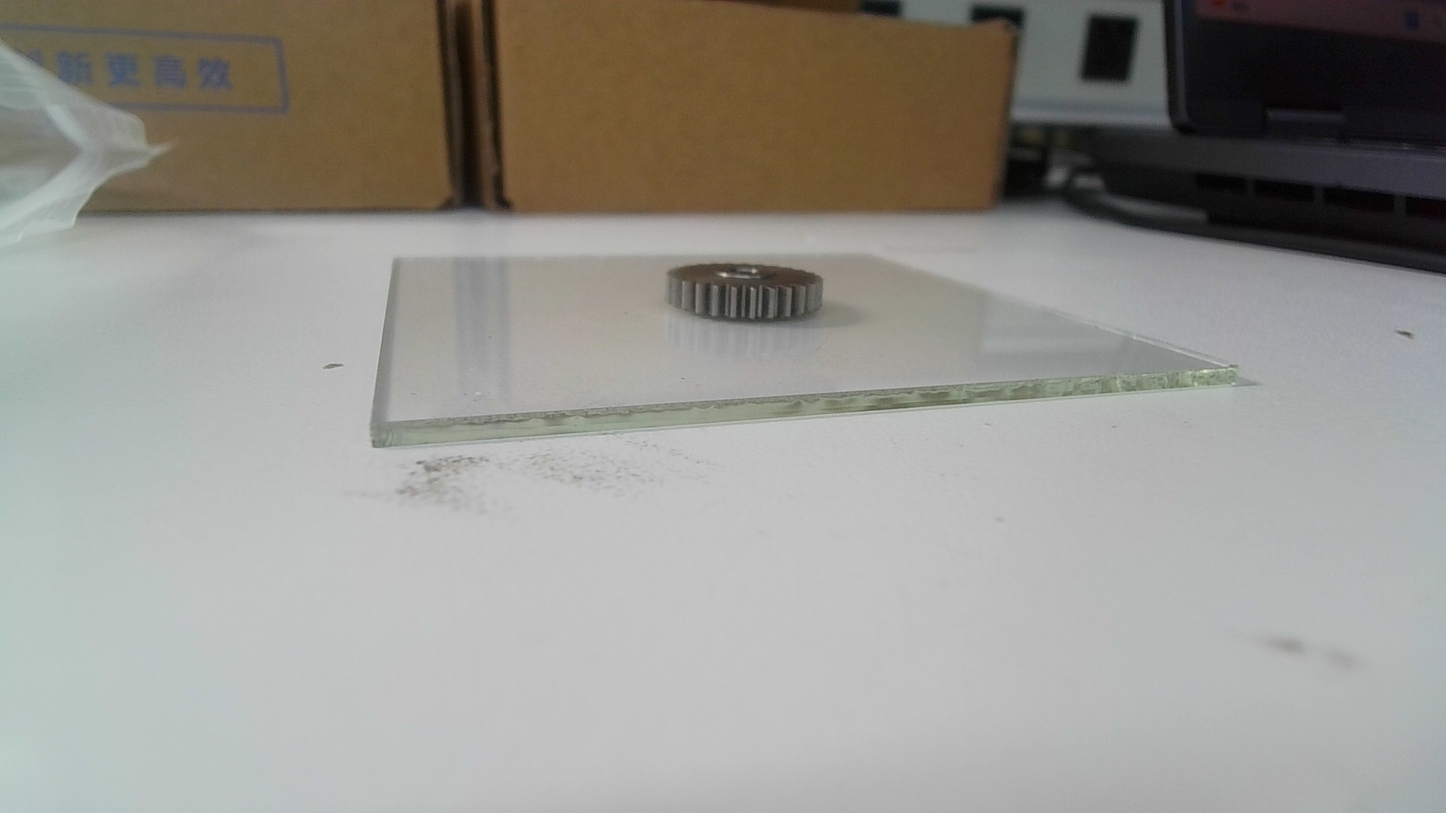gear: (663, 262, 827, 327)
